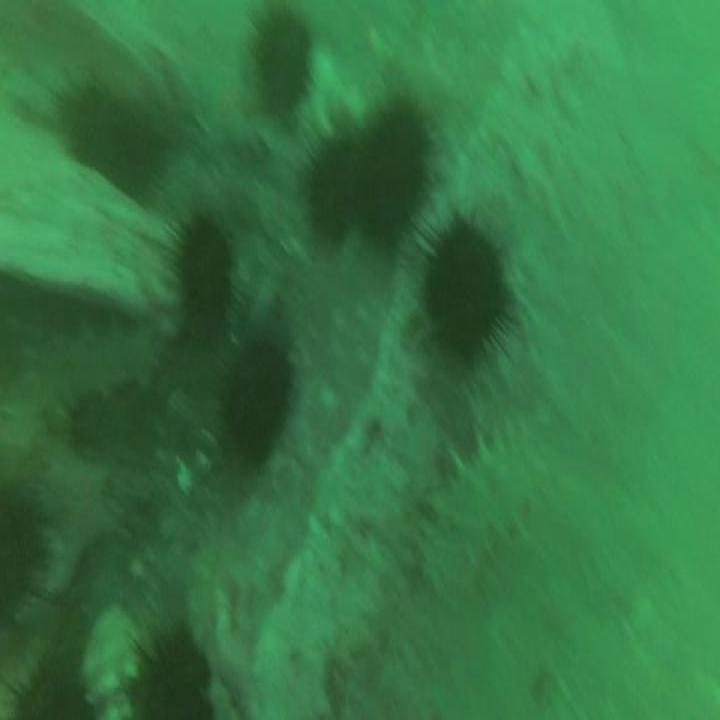echinus: (425, 226, 504, 350), (64, 89, 152, 197), (356, 103, 428, 226), (224, 343, 290, 457), (136, 638, 207, 720), (305, 135, 359, 242), (0, 494, 44, 622), (177, 220, 228, 329), (257, 13, 310, 109), (15, 658, 72, 720)
holothurian: (420, 418, 536, 590)
